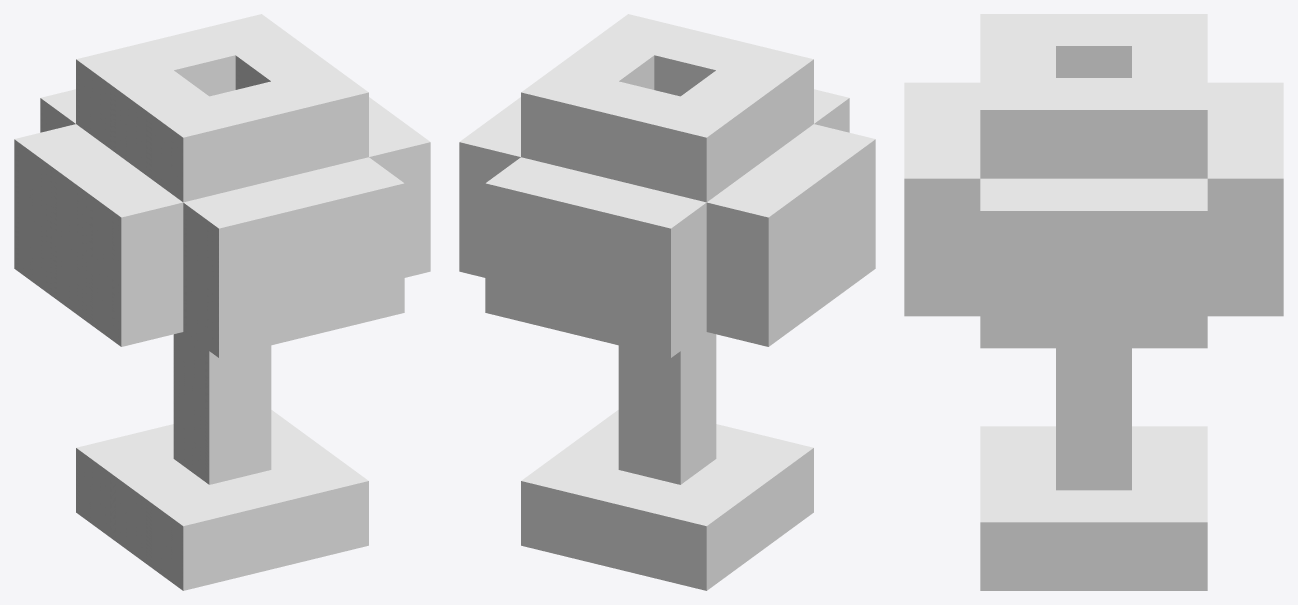
The model's file is Lamp.gltf.
3 renders of one model, left to right at view 1: azimuth 30°, elevation 25°; view 2: azimuth 150°, elevation 25°; view 3: azimuth 270°, elevation 25°, orthographic. The views are drawn at different scales.
Size of the model in its own units: 5 by 7 by 5.
Materials: 1 (1 with a texture image).
